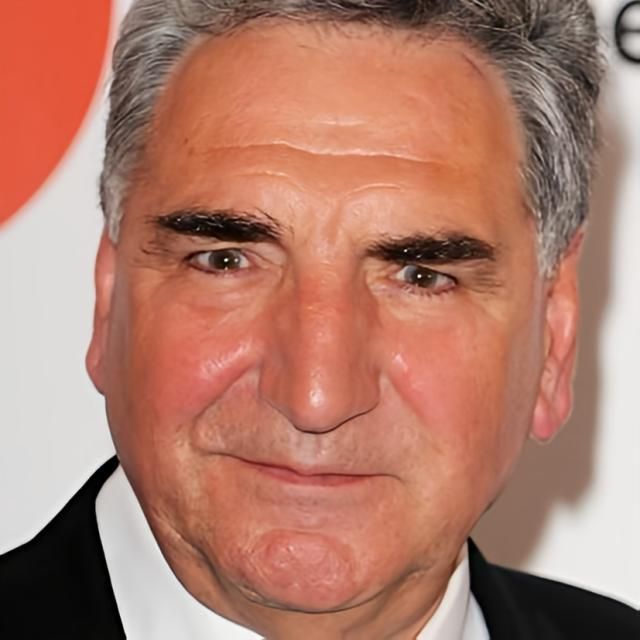content: (109, 7, 540, 616)
